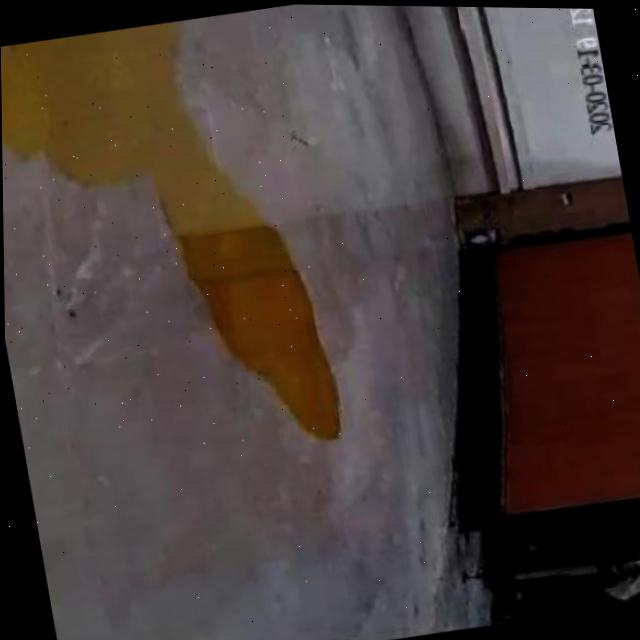spillage: (1, 23, 335, 439)
